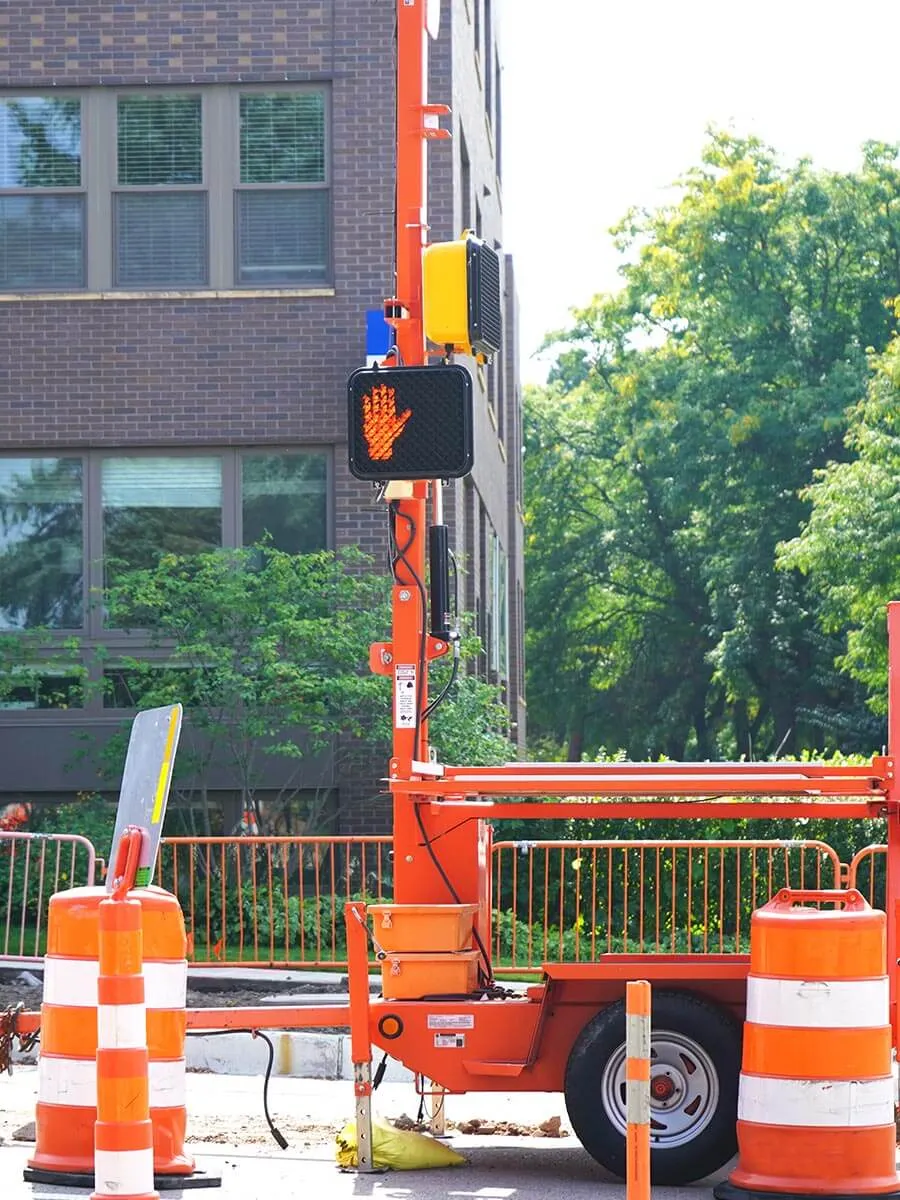ped_stop: (362, 384, 410, 460)
